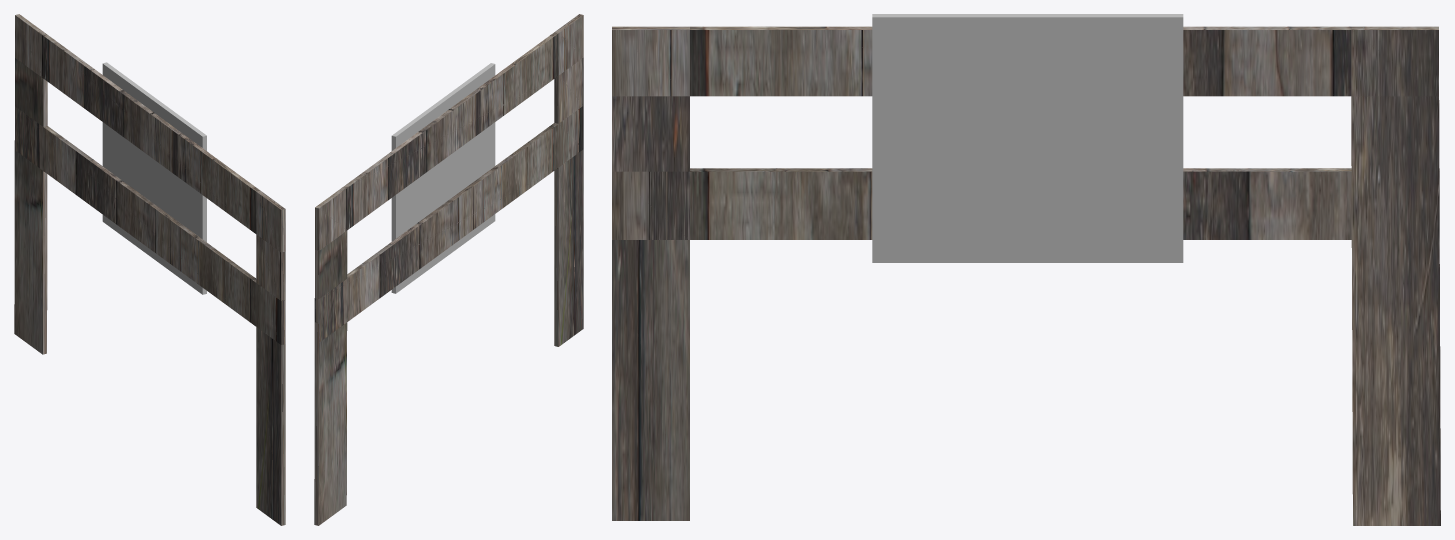
File: tabl3.fbx
The picture shows the model from 3 angles, left to right: view 1: azimuth 30°, elevation 25°; view 2: azimuth 150°, elevation 25°; view 3: azimuth 270°, elevation 25°; orthographic projection. The views are drawn at different scales.
Parts seen in each view (by area): view 1: Cube, Cube.001; view 2: Cube, Cube.001; view 3: Cube, Cube.001.
Part boxes in pixels (<box>): Cube: <box>14,14,285,525</box>; Cube.001: <box>102,62,206,294</box>; Cube: <box>314,14,583,525</box>; Cube.001: <box>391,63,495,293</box>; Cube: <box>612,26,1440,525</box>; Cube.001: <box>872,14,1183,262</box>.
Size of the model in its own units: 4.37 by 145 by 213.
